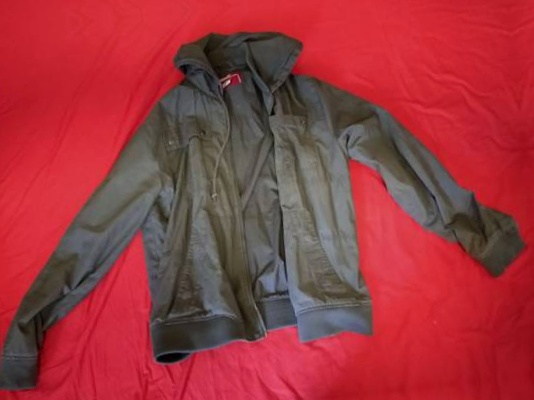Hoodie: (0, 3, 526, 396), (0, 0, 483, 9), (527, 0, 534, 333)
